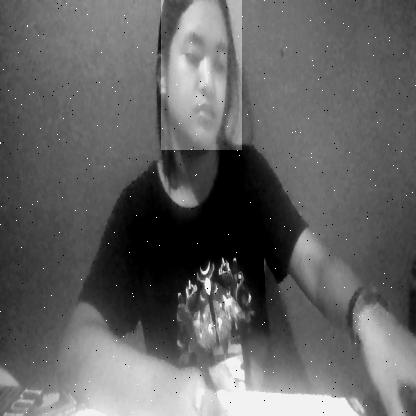Distracted: (161, 0, 242, 150)
